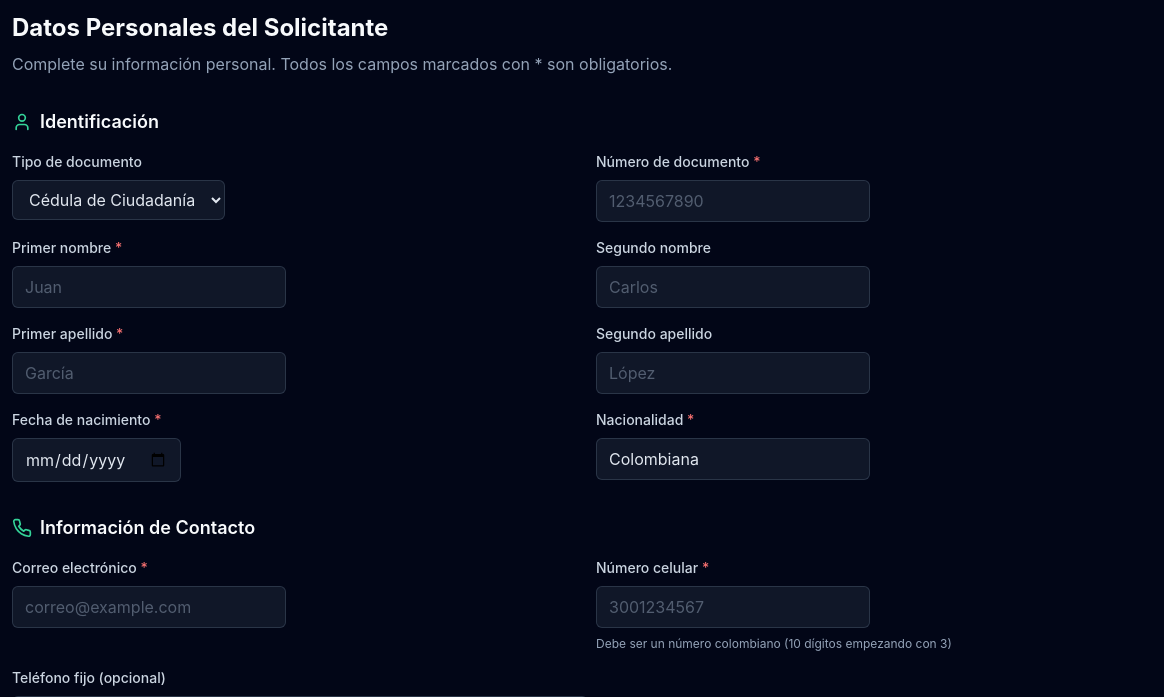
Test: FormStep3New - Datos Personales › ❌ Validation errors › should show error for invalid cedula
Type "123" into the field labelled "Número de documento *" at (733, 201), box [596,180,870,222]
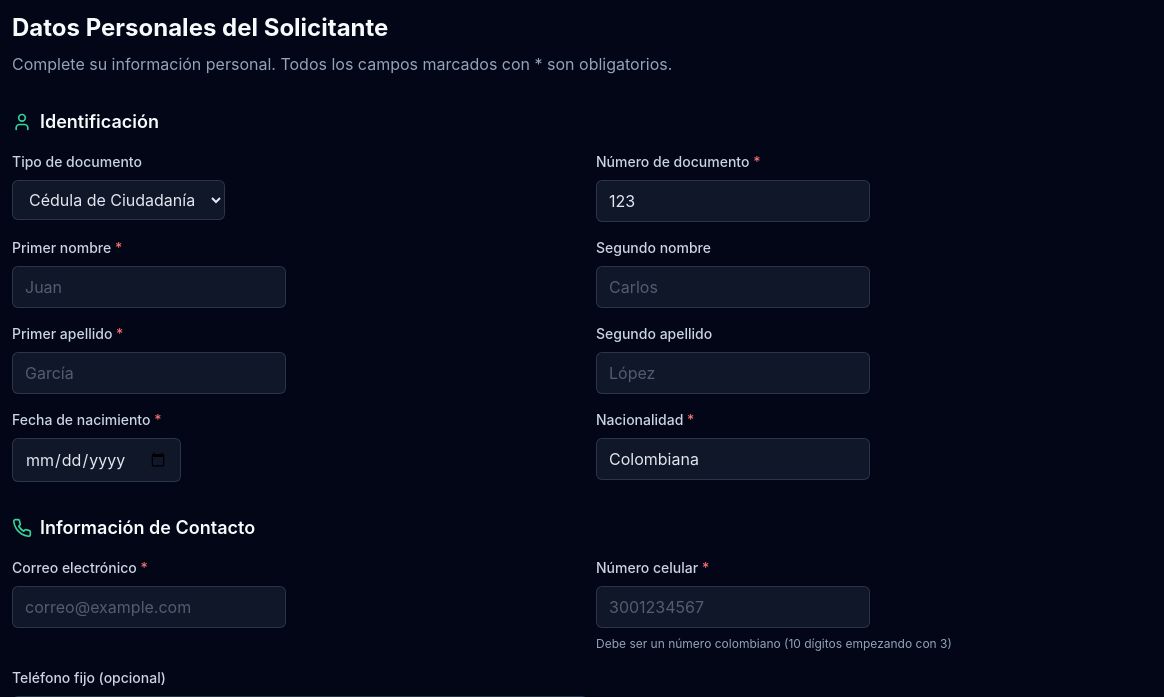
Leave the field labelled "Número de documento *", box [596,180,870,222]
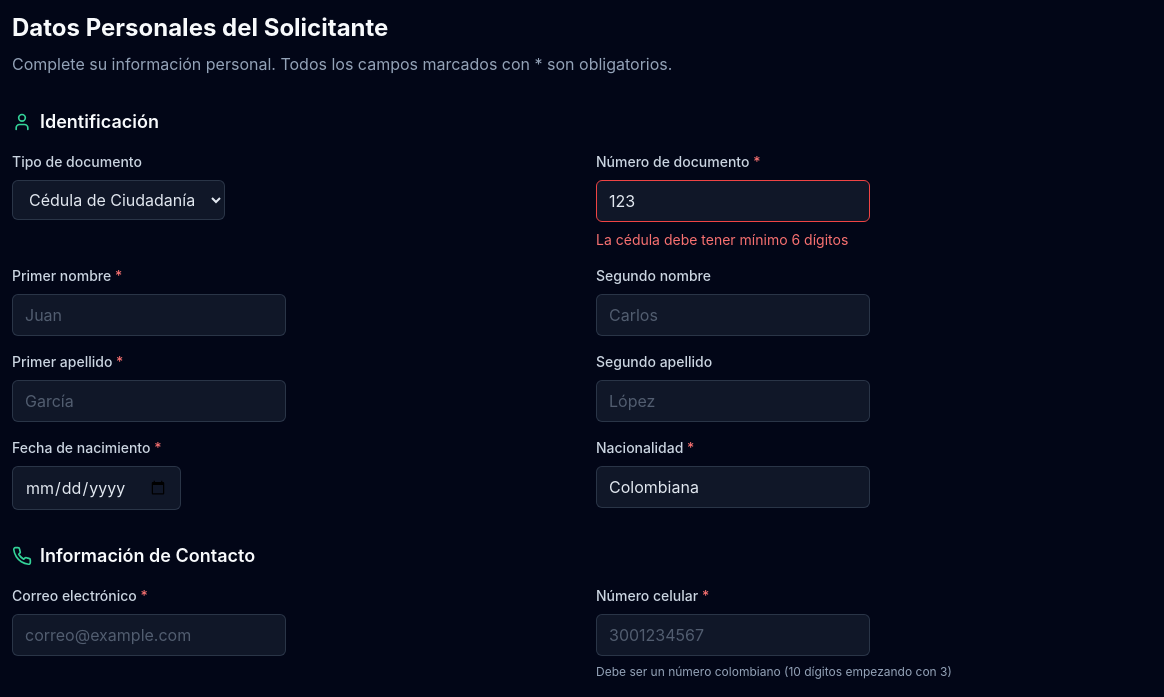
Expected: the message "La cédula debe tener mínimo 6 dígitos" is shown, [596,231,848,248]
